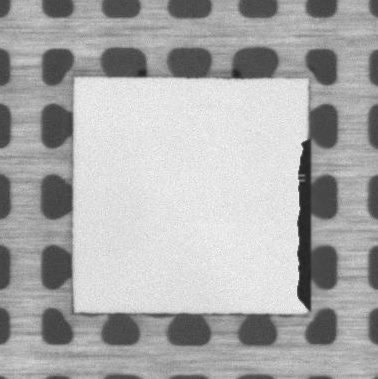DIE_BROKEN: (295, 134, 313, 313)
